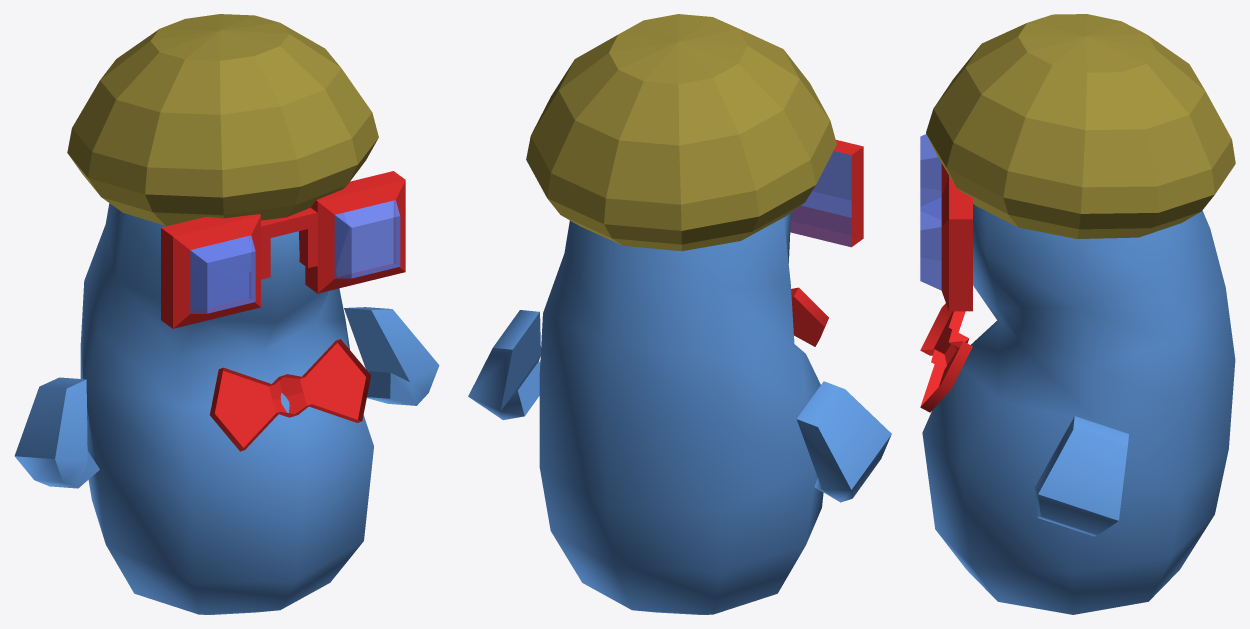
File: Body_Nerd.FBX
3 views of the same model, side by side, from view 1: azimuth 30°, elevation 25°; view 2: azimuth 150°, elevation 25°; view 3: azimuth 270°, elevation 25° (orthographic).
Parts seen in each view (by area): view 1: Nerd, BowlCut, NerdGlasses_Frame, NerdGlasses, BowTie, rightHand, leftHand; view 2: Nerd, BowlCut, rightHand, leftHand, NerdGlasses, NerdGlasses_Frame, BowTie; view 3: Nerd, BowlCut, leftHand, NerdGlasses_Frame, NerdGlasses, BowTie.
Boxes of the visible parts, left/top/right/bottom form: Nerd: left=80, top=203, right=373, bottom=614; BowlCut: left=67, top=14, right=378, bottom=225; NerdGlasses_Frame: left=161, top=171, right=405, bottom=328; NerdGlasses: left=190, top=200, right=400, bottom=313; BowTie: left=210, top=339, right=370, bottom=451; rightHand: left=14, top=377, right=99, bottom=488; leftHand: left=344, top=307, right=439, bottom=405; Nerd: left=539, top=212, right=823, bottom=614; BowlCut: left=526, top=14, right=836, bottom=251; rightHand: left=796, top=381, right=891, bottom=502; leftHand: left=468, top=310, right=540, bottom=419; NerdGlasses: left=790, top=151, right=851, bottom=247; NerdGlasses_Frame: left=790, top=140, right=863, bottom=247; BowTie: left=791, top=287, right=828, bottom=346; Nerd: left=922, top=204, right=1235, bottom=614; BowlCut: left=926, top=14, right=1235, bottom=238; leftHand: left=1035, top=416, right=1128, bottom=536; NerdGlasses_Frame: left=941, top=163, right=972, bottom=311; NerdGlasses: left=920, top=134, right=941, bottom=290; BowTie: left=920, top=303, right=972, bottom=412.
Size of the model in its own units: 14.02 by 19.82 by 10.
